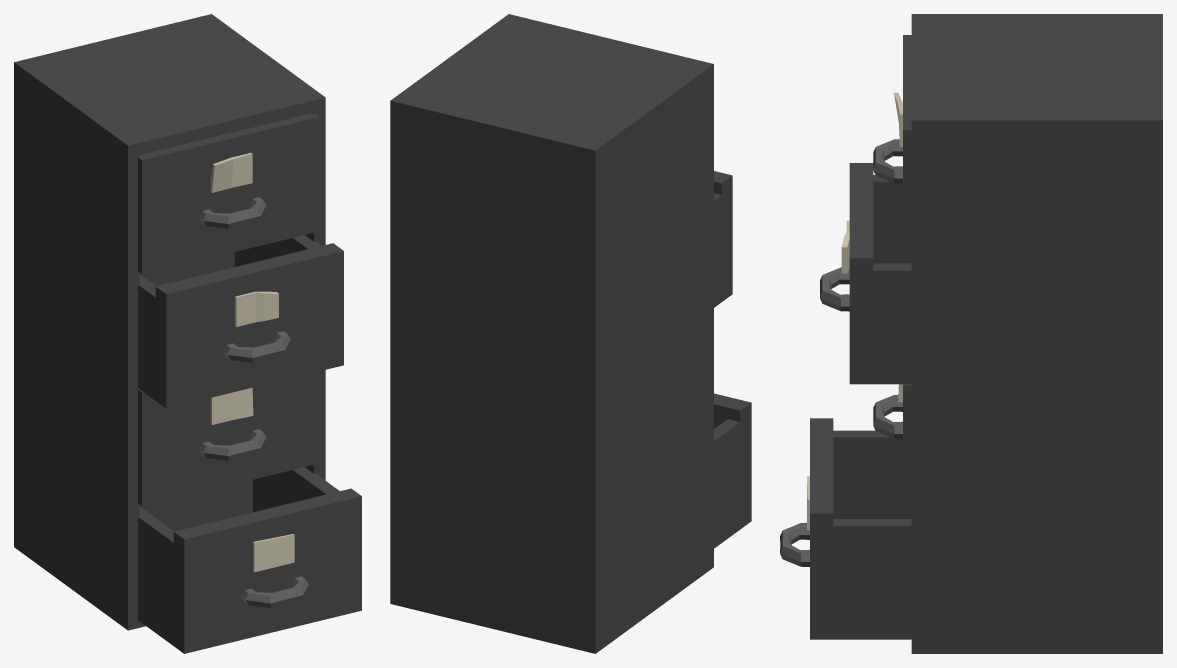
The model's file is Cabinet.fbx.
3 renders of one model, left to right at view 1: azimuth 30°, elevation 25°; view 2: azimuth 150°, elevation 25°; view 3: azimuth 270°, elevation 25°, orthographic. The views are drawn at different scales.
Visible parts, largest first — view 1: Main_, Draw.003, Draw.001, Draw, Draw.002; view 2: Main_, Draw.003, Draw.001; view 3: Main_, Draw.003, Draw.001, Draw, Draw.002.
Boxes of the visible parts, x1,y1,x2,y2 form: Main_: (14,14,325,630); Draw.003: (138,467,361,653); Draw.001: (138,235,343,408); Draw: (138,113,319,274); Draw.002: (138,371,319,506); Main_: (390,14,713,653); Draw.003: (714,393,751,548); Draw.001: (714,171,732,307); Main_: (911,14,1162,653); Draw.003: (780,418,911,639); Draw.001: (820,163,911,384); Draw: (873,35,911,256); Draw.002: (873,384,911,511).
Size of the model in its own units: 65.93 by 155 by 100.
